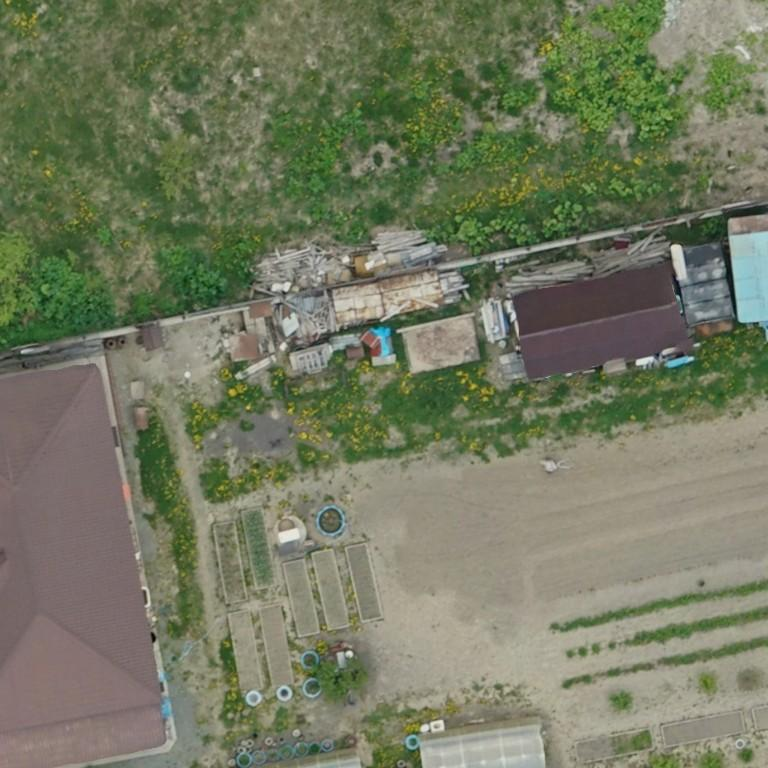hogweed: (32, 256, 113, 326), (165, 247, 229, 300)
